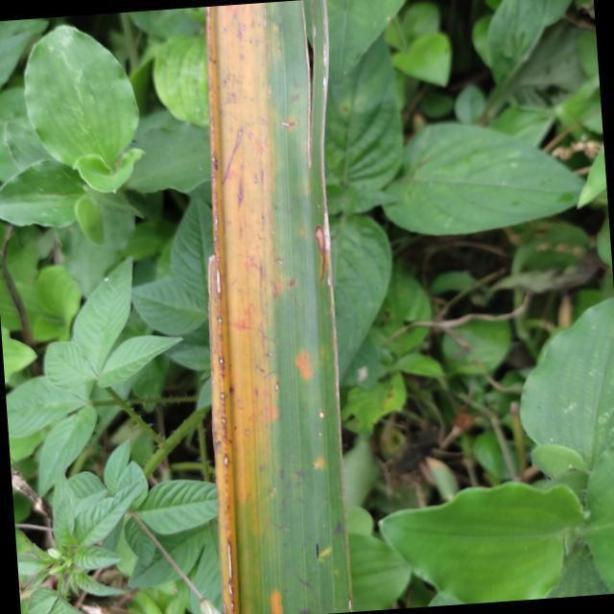Megnesium: (208, 0, 355, 614)
